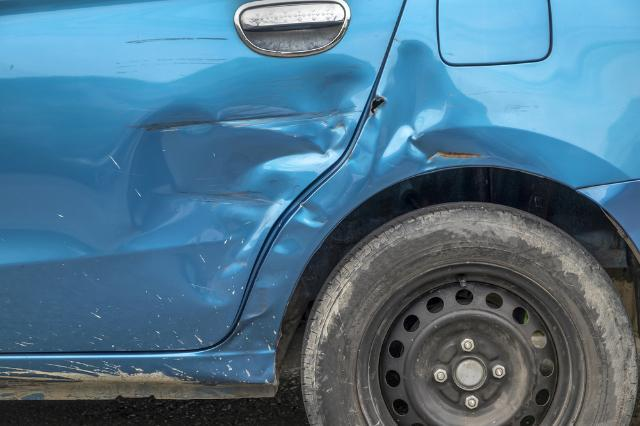dent: (127, 55, 373, 304), (348, 39, 549, 184), (227, 197, 333, 383)
